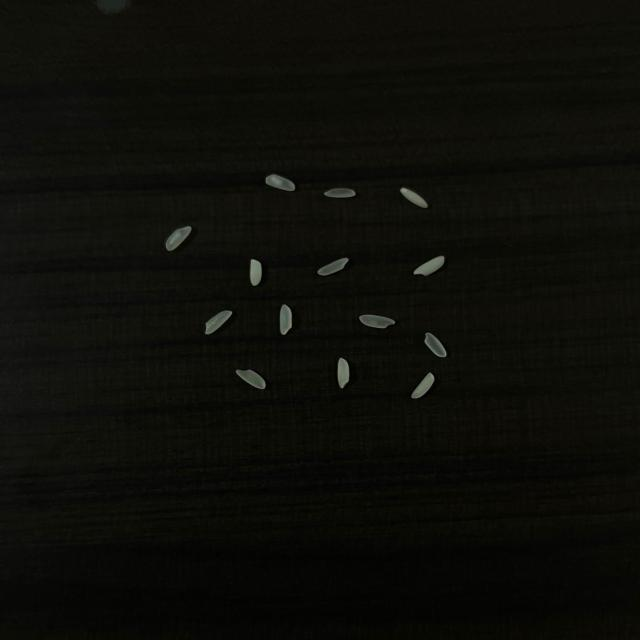Full: (205, 310, 233, 335), (165, 226, 192, 251), (236, 369, 266, 390), (411, 372, 434, 399), (414, 256, 444, 276), (424, 332, 447, 358), (400, 188, 428, 208), (318, 258, 349, 276), (359, 314, 395, 329), (266, 174, 295, 192), (337, 358, 350, 388), (280, 304, 292, 335), (324, 188, 356, 198), (250, 259, 261, 286)
